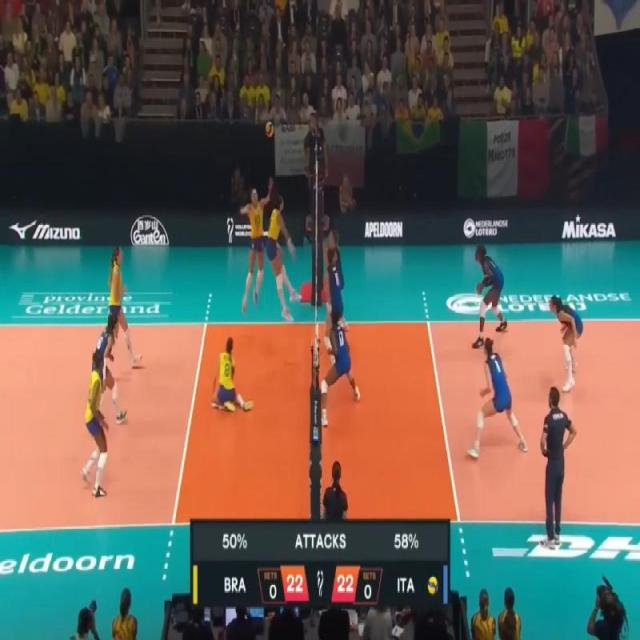volleyball: (265, 121, 275, 138)
